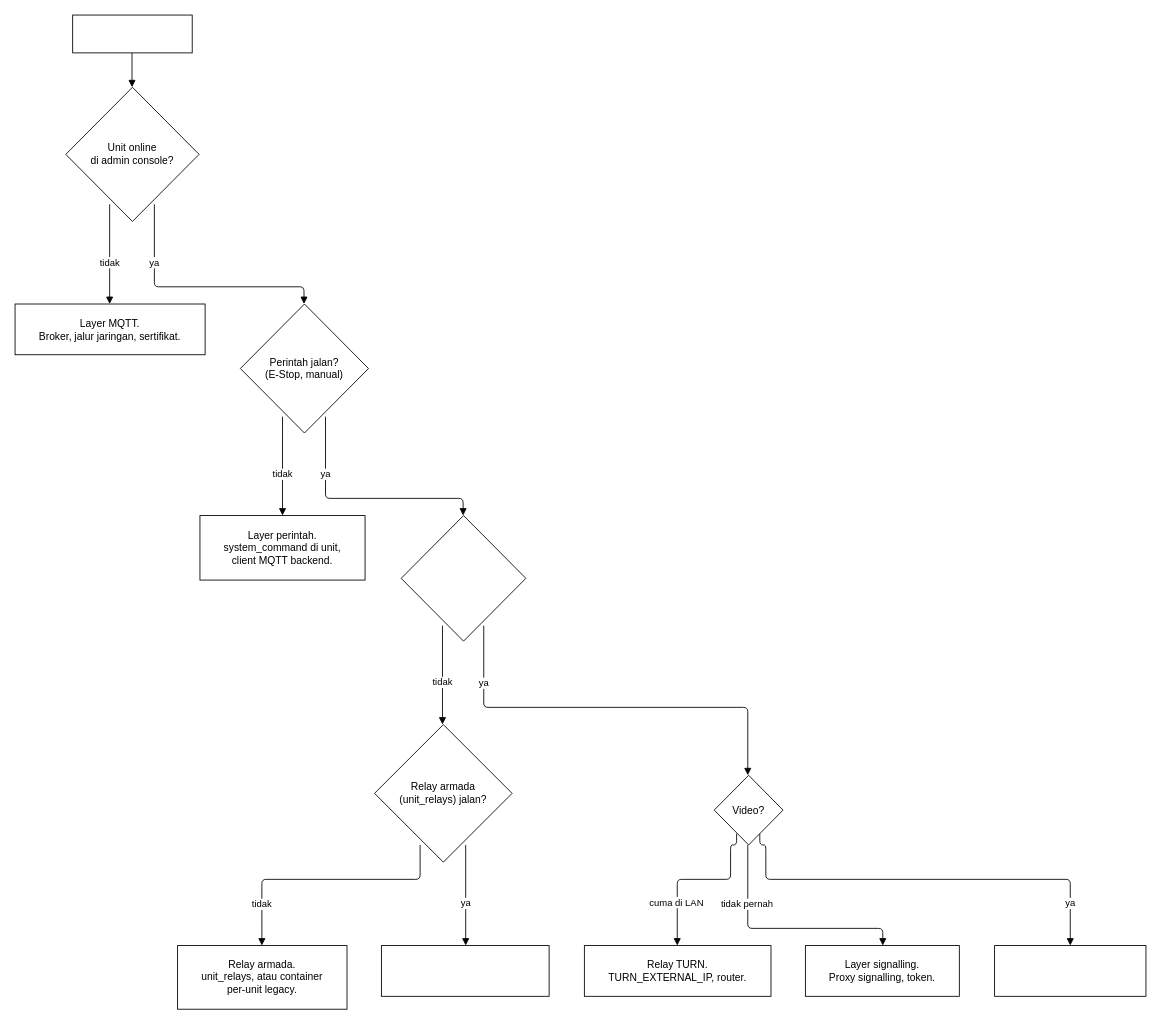
This 1161x1024 diagram has some shape labels left out. The centre of each missing label's shape, as x and y in pixels:
Ada yang salah: the point at 132,33
Kanvas peta terisi?: the point at 463,578
Layer rosbridge. Blok Host-header Apache.: the point at 465,970
Masalah level aplikasi. Tabel di bawah.: the point at 1070,970
